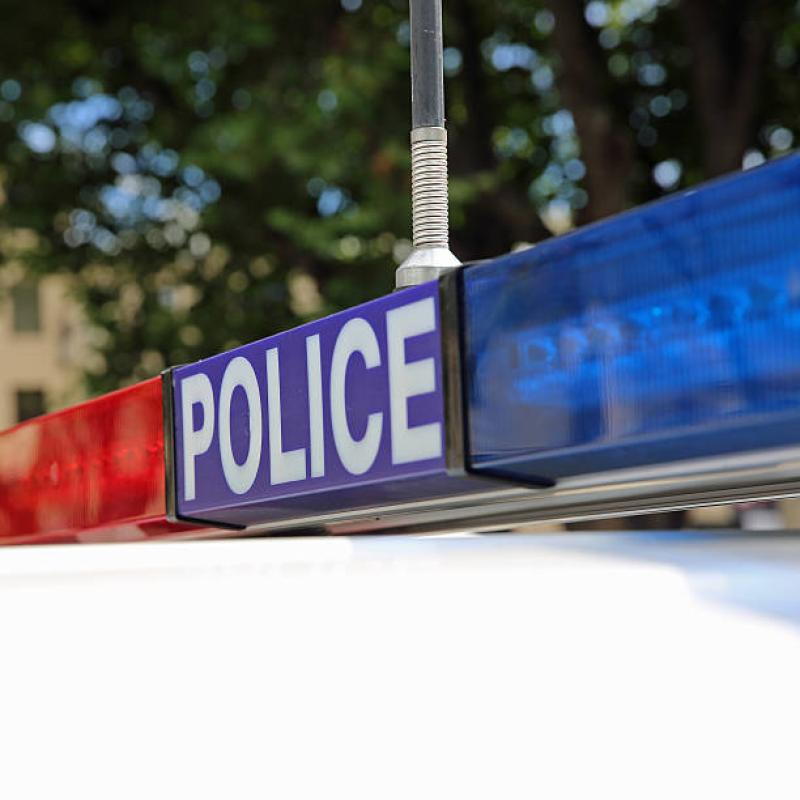AmbulanceSiren: (0, 131, 800, 563)
